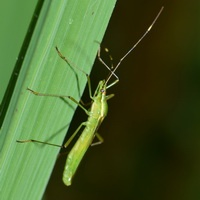insect: (27, 6, 163, 185)
